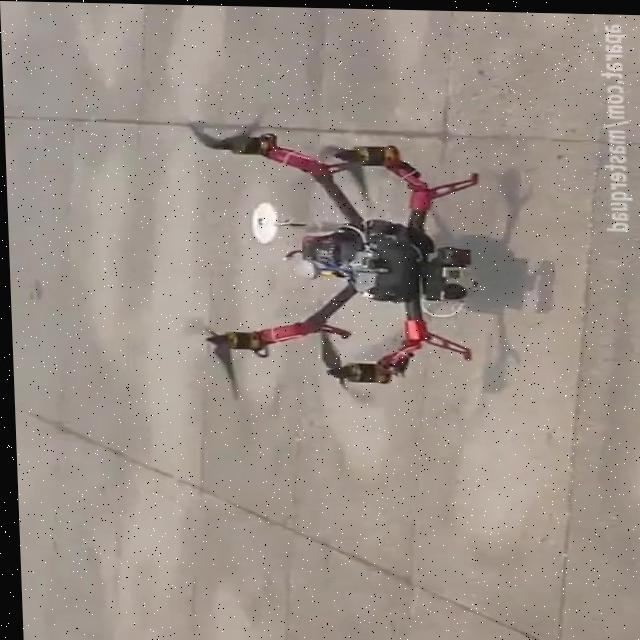drone: (163, 99, 490, 404)
